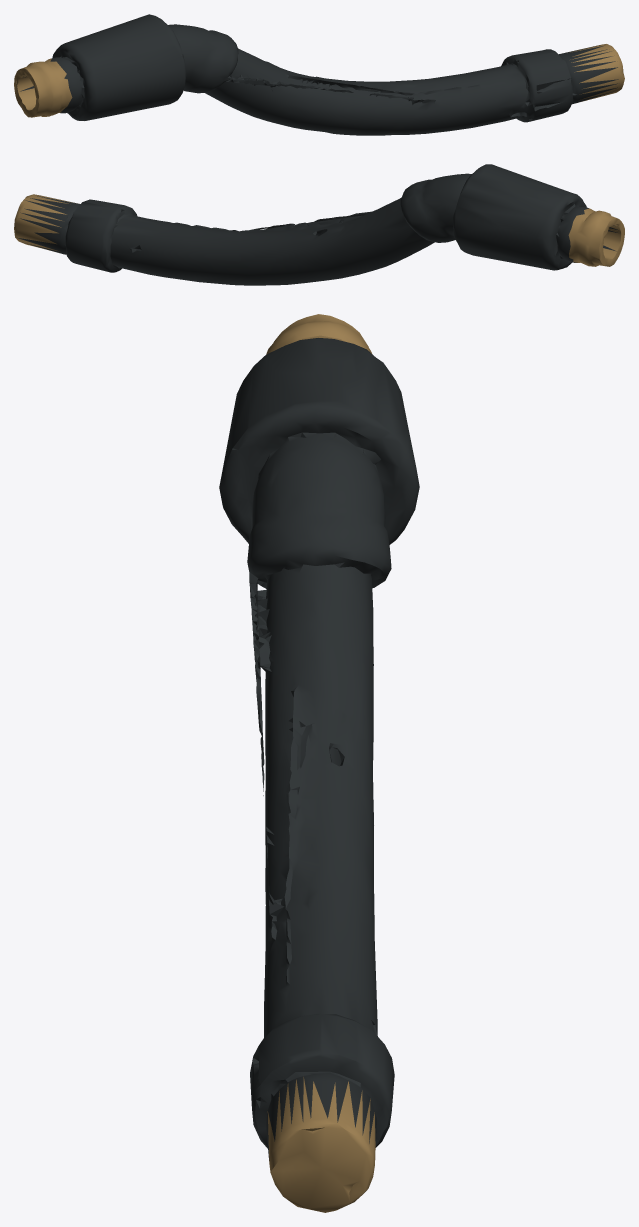
Rendered from 14_HoseUpper.glb.
3 views of the same model, one above another, from view 1: azimuth 30°, elevation 25°; view 2: azimuth 150°, elevation 25°; view 3: azimuth 270°, elevation 25° (orthographic). The views are drawn at different scales.
Visible parts, largest first — view 1: SM_TS_BrineMK1_HoseUpper_V02; view 2: SM_TS_BrineMK1_HoseUpper_V02; view 3: SM_TS_BrineMK1_HoseUpper_V02.
Boxes of the visible parts, x1,y1,x2,y2 form: SM_TS_BrineMK1_HoseUpper_V02: (14,14,624,135); SM_TS_BrineMK1_HoseUpper_V02: (14,164,624,285); SM_TS_BrineMK1_HoseUpper_V02: (219,314,419,1212).
Size of the model in its own units: 0.1609 by 0.0499 by 0.0238.
